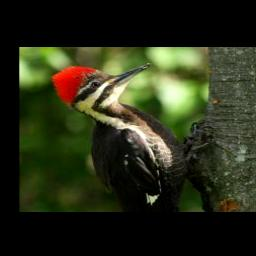Woodpecker: (53, 62, 212, 211)
